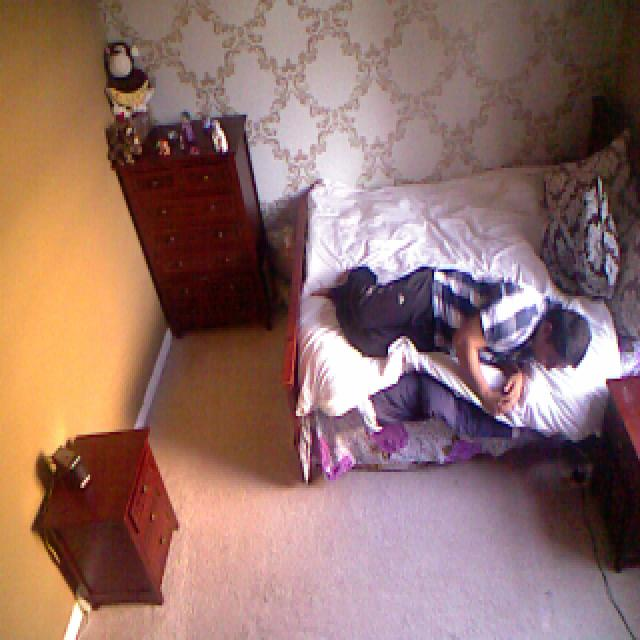lying: (317, 261, 590, 412)
